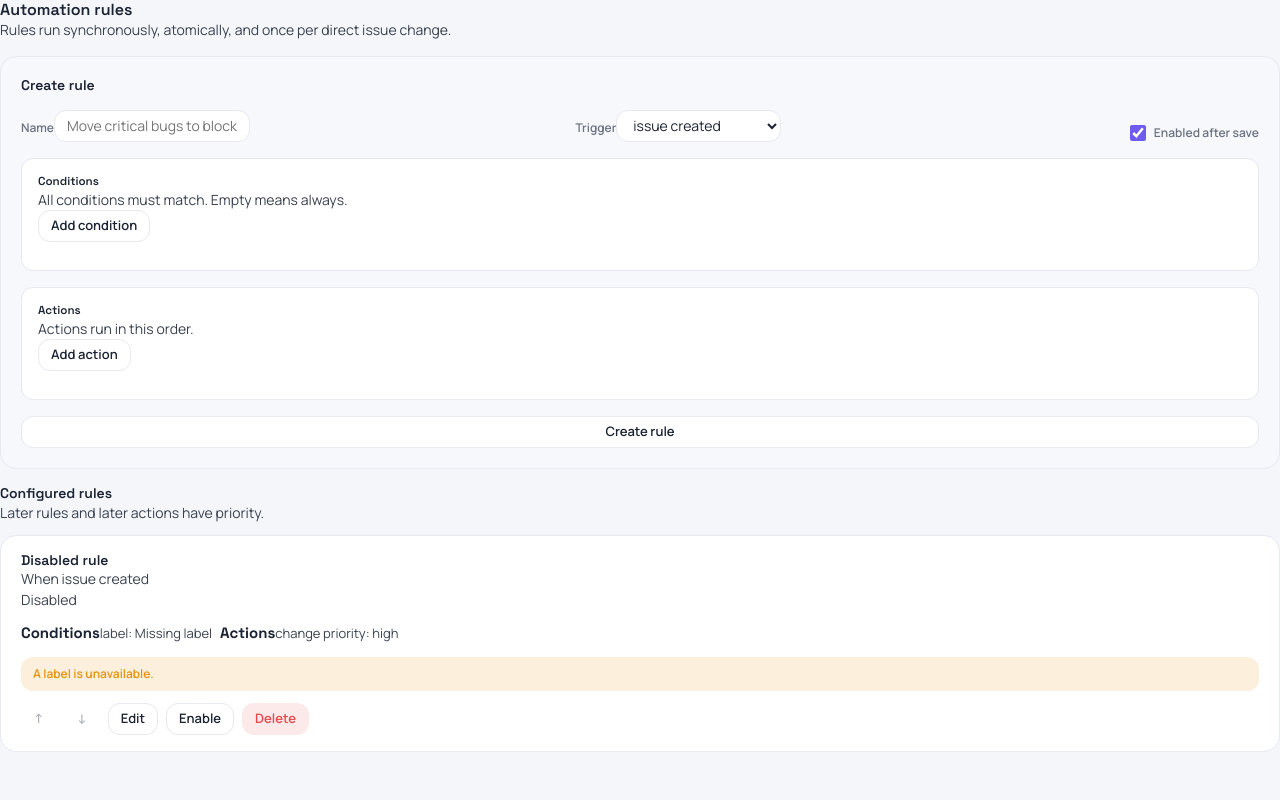
Test: opens missing dependency in editor and blocks enabling until repaired
Click the button "Enable".
click(200, 719)  # box [166,703,234,735]
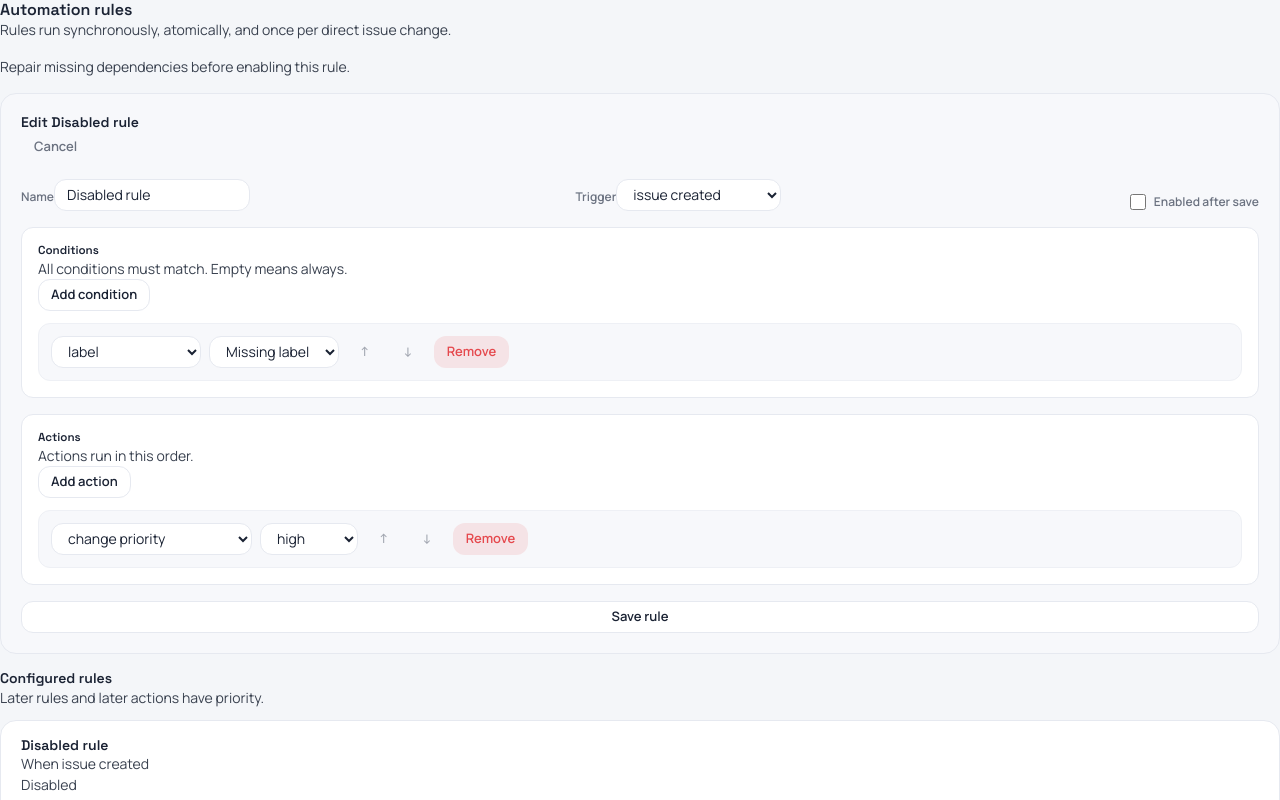
Check: the text "Repair missing dependencies before enabling this rule." is shown, box [0,57,350,76]
